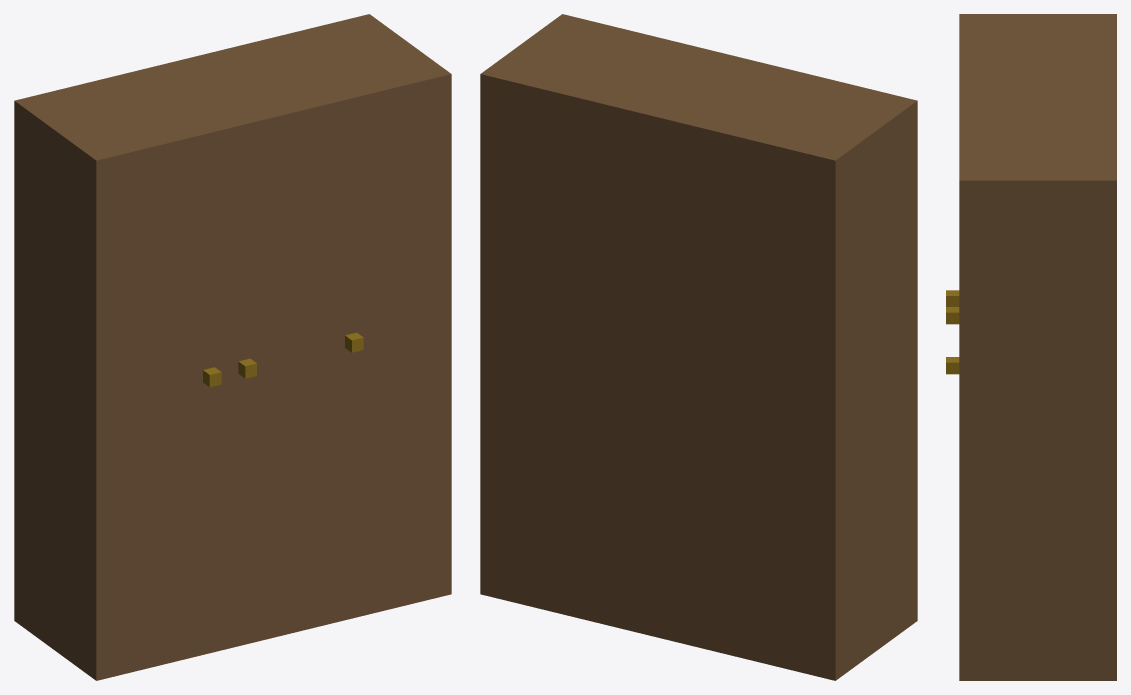
The model's file is Wardrobe00.gltf.
The picture shows the model from 3 angles, left to right: view 1: azimuth 30°, elevation 25°; view 2: azimuth 150°, elevation 25°; view 3: azimuth 270°, elevation 25°; orthographic projection. The views are drawn at different scales.
Visible parts, largest first — view 1: Base, Door.2, Door.1, Door; view 2: Base; view 3: Base.
Part boxes in pixels (box(x1,y1,x2,y2)): Base: box(14, 14, 451, 680); Door.2: box(333, 89, 439, 598); Door.1: box(214, 118, 321, 627); Door: box(120, 141, 226, 650); Base: box(480, 14, 917, 680); Base: box(959, 14, 1116, 680).
Size of the model in its own units: 30 by 42 by 13.
